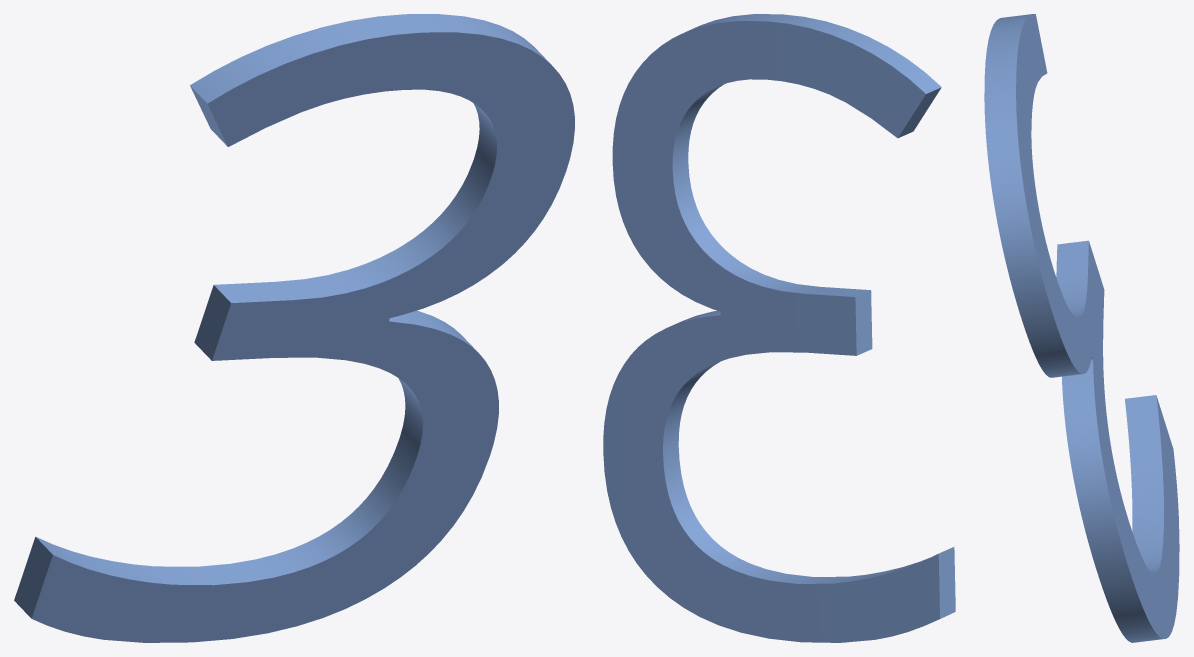
The model's file is New_Number_3.gltf.
3 renders of one model, left to right at view 1: azimuth 30°, elevation 25°; view 2: azimuth 150°, elevation 25°; view 3: azimuth 270°, elevation 25°, orthographic. The views are drawn at different scales.
Parts seen in each view (by area): view 1: Part 102; view 2: Part 102; view 3: Part 102.
Part boxes in pixels (box(x1,y1,x2,y2)): Part 102: box(14, 14, 574, 642); Part 102: box(603, 14, 955, 642); Part 102: box(984, 14, 1179, 642).
Size of the model in its own units: 0.00374 by 0.00507 by 0.00156.
